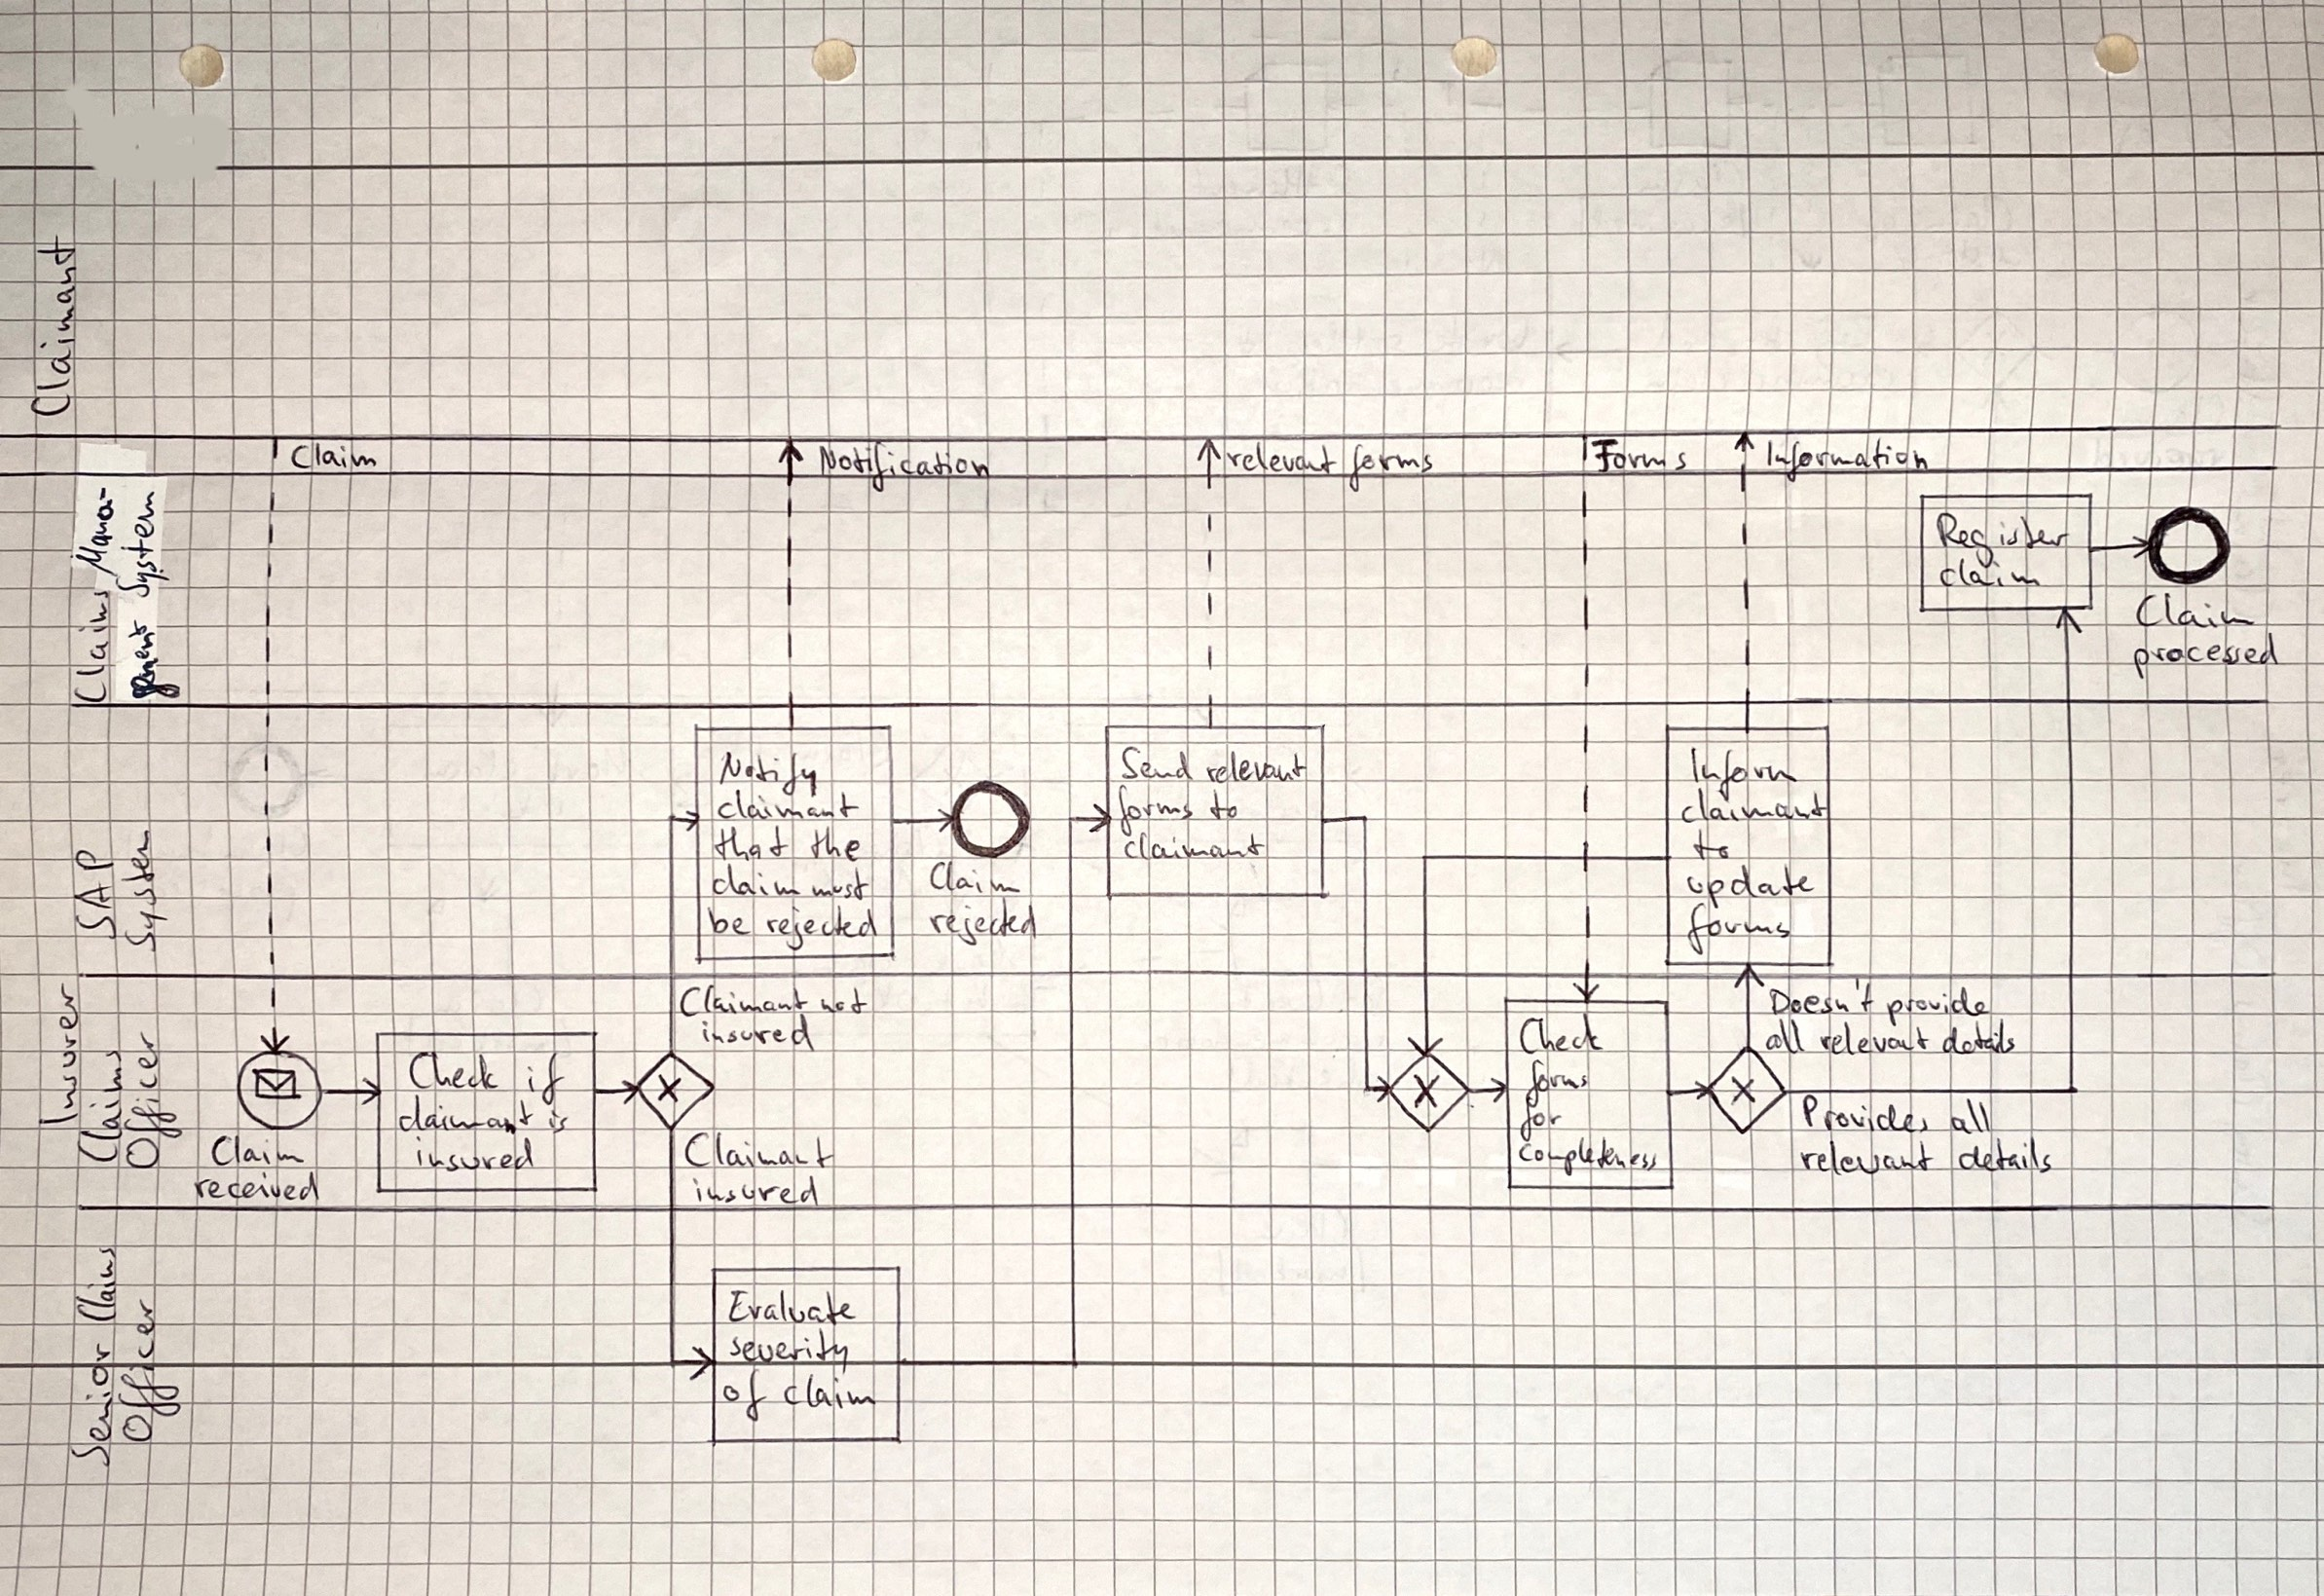Check: (403, 1043, 500, 1098), (1513, 1013, 1602, 1059)
Claim: (2137, 591, 2260, 637), (924, 860, 1024, 902), (210, 1137, 307, 1176), (291, 441, 378, 475)
Claimant: (26, 238, 79, 417), (687, 1130, 835, 1172), (680, 985, 811, 1022)
Claims: (71, 574, 117, 708), (79, 1042, 125, 1169), (74, 1245, 117, 1329)
Doesn't: (1771, 985, 1881, 1022)
Evaluate: (726, 1287, 858, 1329)
Forms: (1591, 431, 1709, 478)
Inform: (1681, 749, 1800, 793)
Information: (1754, 431, 1932, 480)
Insurer: (44, 985, 79, 1126)
Mana-: (71, 484, 118, 567)
Notification: (812, 438, 998, 491)
Notify: (721, 749, 828, 800)
Officer: (115, 1291, 171, 1442), (122, 1024, 166, 1162)
Provides: (1794, 1096, 1946, 1141)
Register: (1932, 507, 2070, 556)
SAP: (67, 851, 120, 939)
Send: (1114, 742, 1187, 787)
Senior: (71, 1338, 115, 1469)
System: (122, 832, 168, 952), (122, 489, 166, 604)
all: (1951, 1096, 1994, 1142), (1766, 1024, 1807, 1059)
be: (705, 906, 752, 948)
claim: (1934, 556, 2056, 598), (777, 1374, 878, 1419), (708, 867, 811, 906)
claimant: (387, 1089, 533, 1139), (715, 786, 874, 826), (1678, 791, 1828, 830), (1116, 830, 1263, 867)
completeness: (1512, 1137, 1665, 1181)
details: (1964, 1137, 2052, 1176), (1943, 1024, 2017, 1059)
for: (1510, 1100, 1561, 1141)
forms: (1683, 915, 1791, 957), (1105, 791, 1199, 839), (1339, 440, 1437, 484), (1524, 1059, 1596, 1102)
gement: (122, 611, 175, 701)
if: (523, 1052, 565, 1100)
insured: (410, 1141, 537, 1176), (690, 1174, 821, 1208), (694, 1017, 819, 1050)
is: (546, 1107, 567, 1139)
must: (814, 872, 876, 906)
not: (816, 985, 871, 1022)
of: (713, 1374, 770, 1419)
processed: (2132, 639, 2280, 676)
provide: (1884, 983, 1988, 1022)
received: (192, 1172, 316, 1206)
rejected: (758, 906, 881, 946), (924, 902, 1037, 945)
relevant: (1798, 1139, 1934, 1179), (1194, 749, 1312, 787), (1812, 1024, 1939, 1059), (1227, 436, 1330, 478)
severity: (724, 1331, 856, 1374)
that: (708, 828, 800, 865)
the: (805, 828, 862, 862)
to: (1206, 787, 1241, 826)
update: (1686, 865, 1822, 904)
